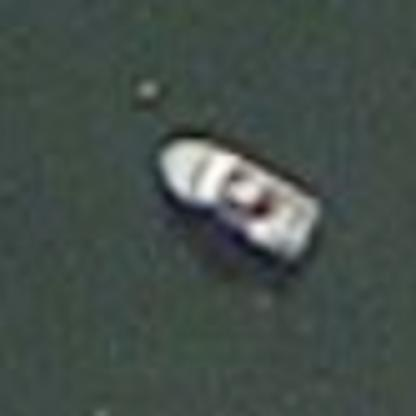ship: (127, 116, 345, 285)
